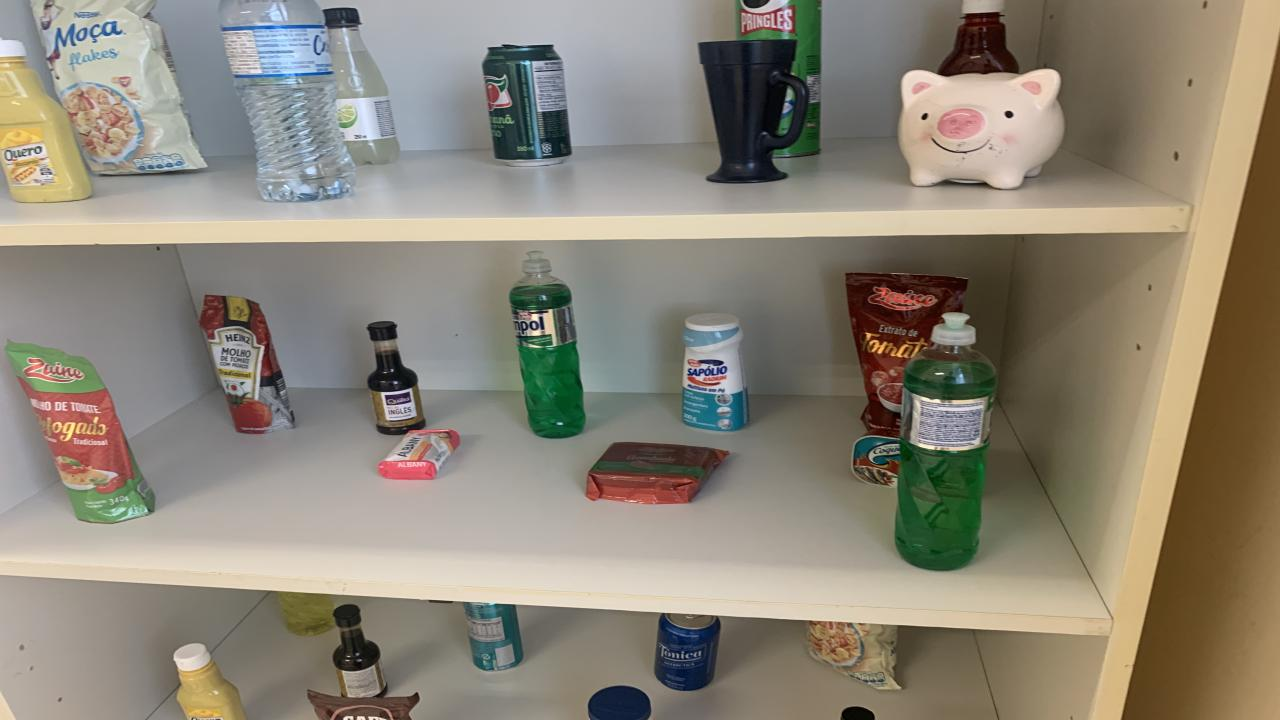Cleaner-Cleanup_Items: (682, 313, 750, 431)
Coffee-Pantry_Items: (308, 690, 420, 720)
Detergent-Cleanup_Items: (895, 313, 998, 570), (510, 251, 585, 439), (278, 591, 335, 636)
English_Sauce-Pantry_Items: (368, 321, 425, 435), (332, 604, 388, 698)
Flakes-Snacks: (30, 0, 205, 174), (808, 621, 900, 690)
Guarana_Can-Drinks: (482, 45, 572, 167)
Guava-Snacks: (585, 442, 728, 504)
Ketchup-Pantry_Items: (938, 0, 1020, 77)
Mayonnaise-Pantry_Items: (588, 686, 650, 720)
Mustard-Pantry_Items: (0, 39, 92, 202), (172, 643, 245, 720)
Pig_Safe-Miscellaneous: (898, 69, 1065, 189)
Pringles-Snacks: (735, 0, 822, 158), (778, 92, 792, 133)
Soap-Cleanup_Items: (378, 429, 460, 480)
Soda-Drinks: (325, 8, 400, 165)
Tea-Drinks: (462, 602, 522, 671)
Tomato_Sauce-Pantry_Items: (5, 341, 155, 523), (845, 272, 968, 437), (200, 294, 295, 433)
Tonic-Drinks: (655, 613, 720, 690)
Tuna_Can-Pantry_Items: (850, 435, 900, 488)
Water_Bottle-Drinks: (220, 0, 355, 201)
